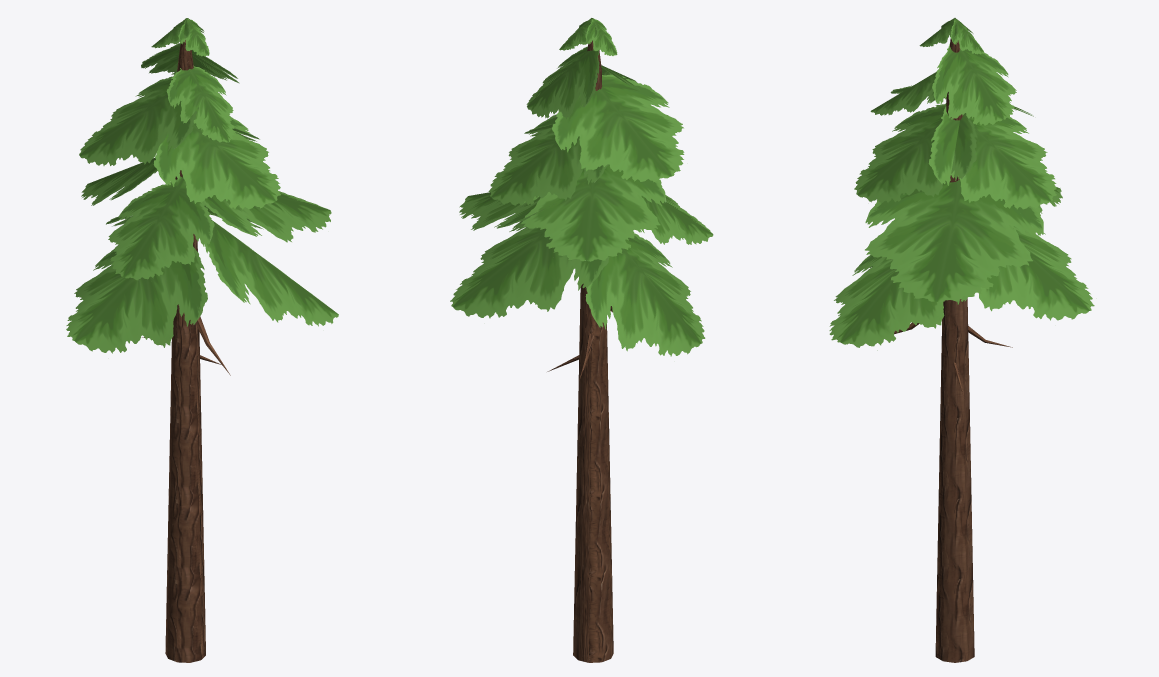
Rendered from Borovica_LODs.fbx.
The picture shows the model from 3 angles, left to right: view 1: azimuth 30°, elevation 25°; view 2: azimuth 150°, elevation 25°; view 3: azimuth 270°, elevation 25°; orthographic projection.
Parts seen in each view (by area): view 1: tree2_LOD0; view 2: tree2_LOD0; view 3: tree2_LOD0.
Boxes of the visible parts, x1,y1,x2,y2 form: tree2_LOD0: (66, 18, 338, 662); tree2_LOD0: (450, 18, 713, 662); tree2_LOD0: (829, 18, 1094, 662).
Size of what is drawn, in the model's own units: 4.31 by 9.51 by 5.02.
5 materials, 5 textured.
